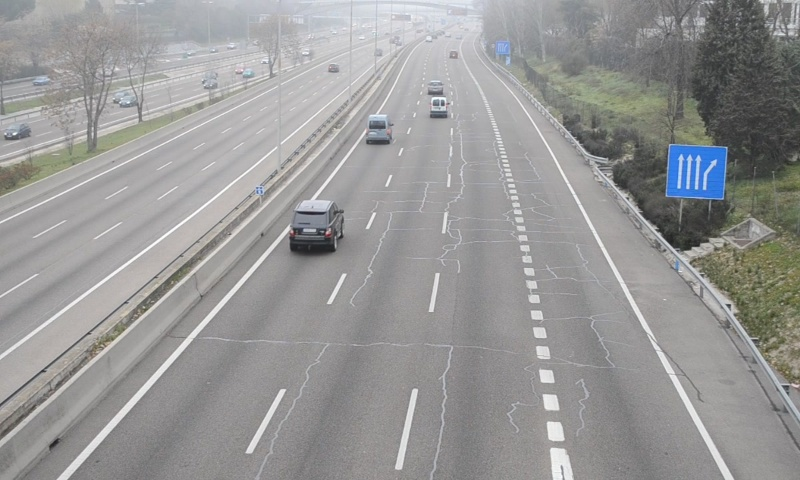car: (290, 202, 343, 246)
van: (365, 114, 391, 140), (428, 95, 448, 119)
